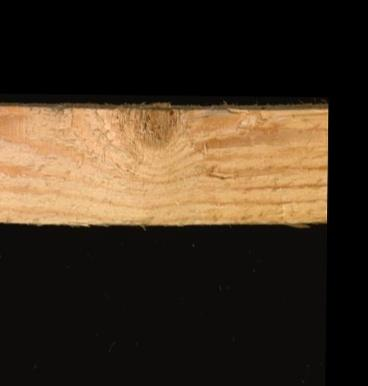edge_knot: (117, 97, 180, 148)
wave: (191, 100, 257, 120)
